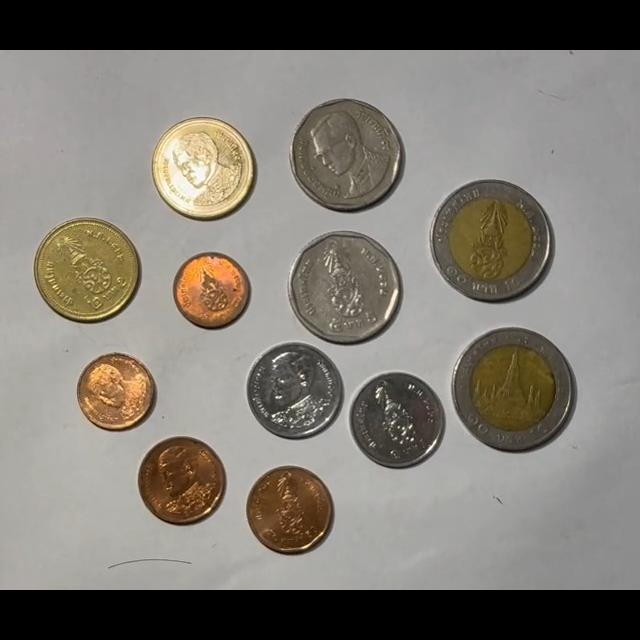1-baht: (349, 371, 447, 468), (247, 342, 342, 438)
10-baht: (453, 328, 575, 452), (430, 180, 553, 301)
2-baht: (35, 218, 140, 323), (152, 117, 256, 221)
25-satang: (77, 352, 155, 431), (173, 251, 250, 328)
5-baht: (290, 98, 404, 212), (288, 231, 401, 343)
50-satang: (138, 437, 225, 525), (246, 466, 333, 554)
